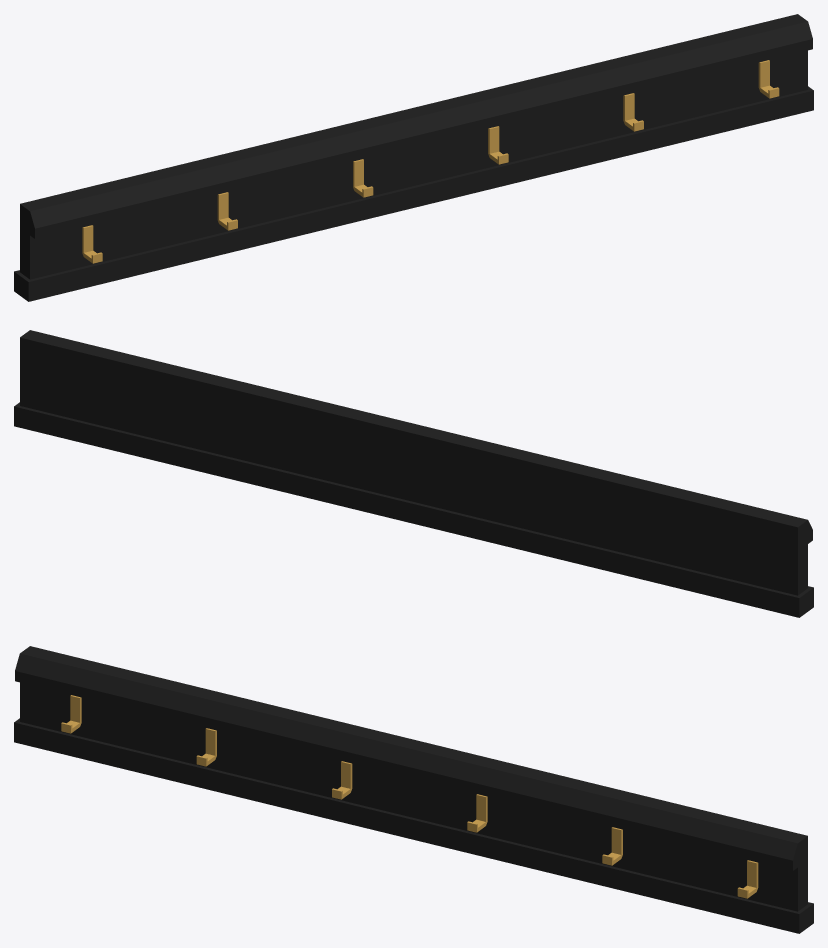
Rendered from Prop_WallHanger_02.fbx.
3 views of the same model, one above another, from view 1: azimuth 30°, elevation 25°; view 2: azimuth 150°, elevation 25°; view 3: azimuth 330°, elevation 25° (orthographic).
Parts seen in each view (by area): view 1: Prop_WallHanger_02; view 2: Prop_WallHanger_02; view 3: Prop_WallHanger_02.
Boxes of the visible parts, x1,y1,x2,y2 form: Prop_WallHanger_02: (14, 14, 813, 301); Prop_WallHanger_02: (14, 330, 813, 617); Prop_WallHanger_02: (14, 646, 813, 933).
Size of the model in its own units: 68.99 by 7.4 by 3.52.
